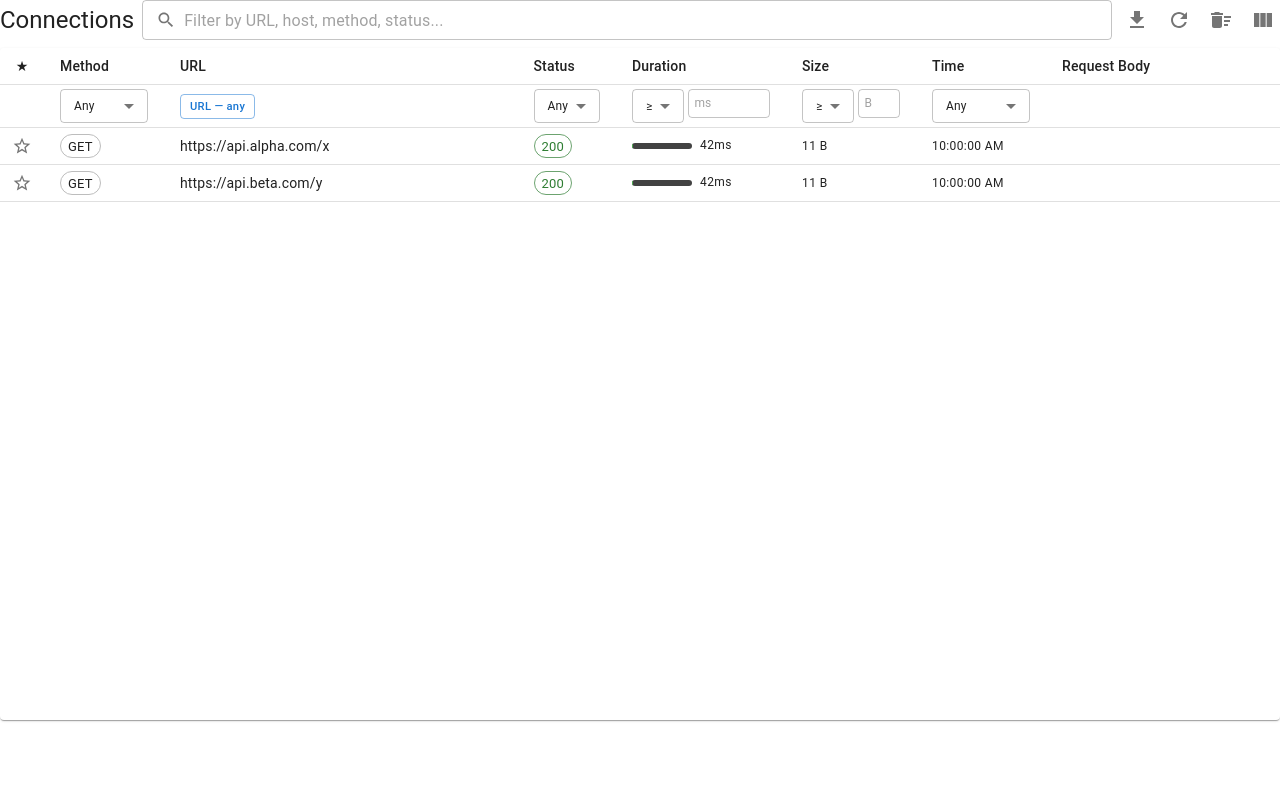
Test case: ConnectionsPage — column filters › filters rows by URL-contains via the multi-clause URL filter modal
Expected: the text "https://api.alpha.com/x" is shown, [164,128,518,165]
Expected: the text "https://api.beta.com/y" is shown, [164,165,518,202]
Click the button with test id "url-filter-button". click: (218, 106)
box: [180,94,255,119]
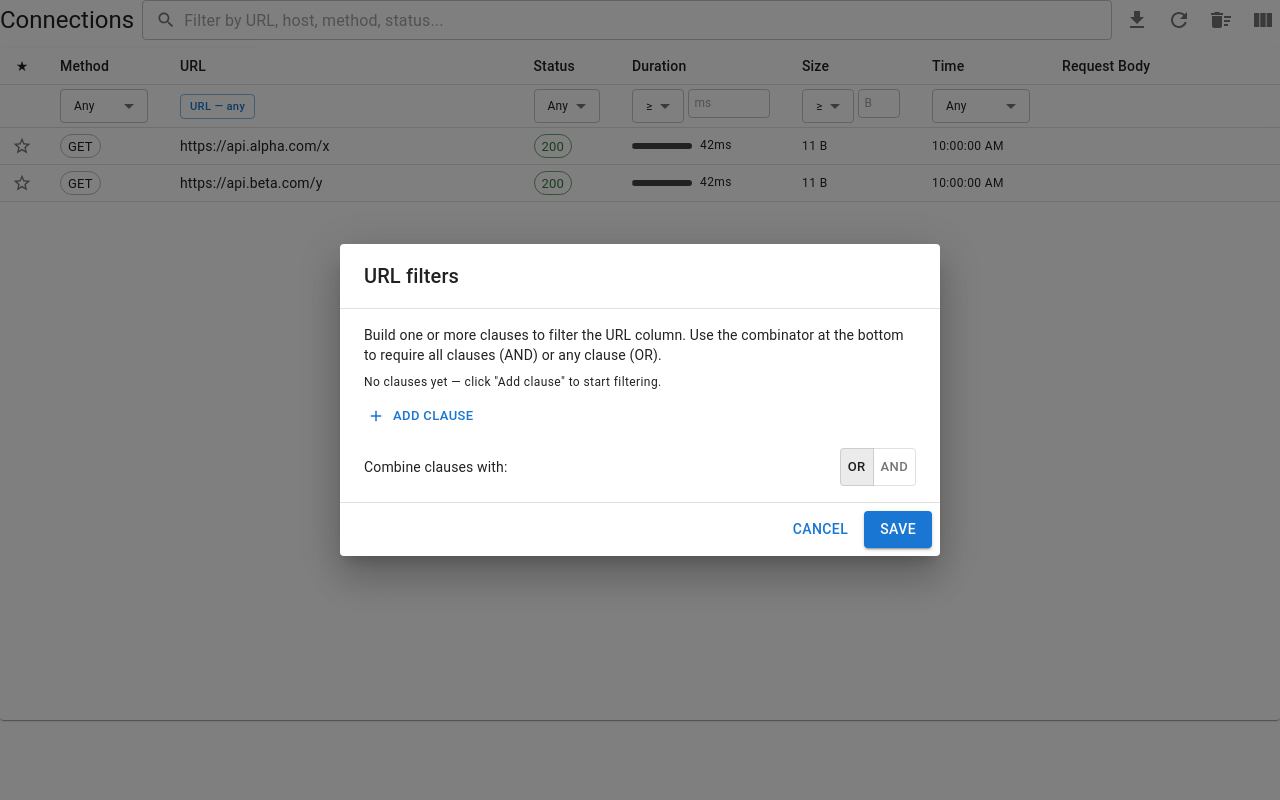
First clause row should already exist after Add.
Click the button with test id "url-filter-add-clause". click: (421, 416)
box: [364,401,478,432]
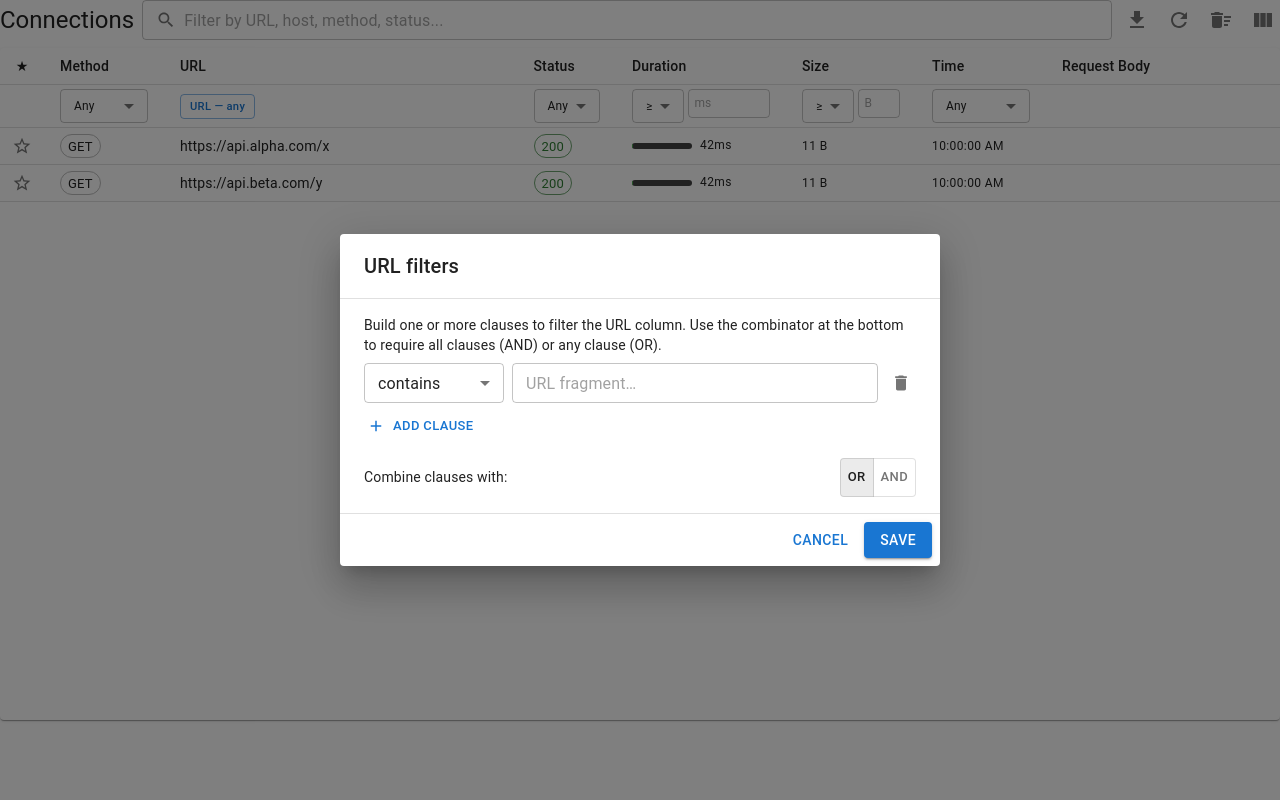
Type "beta" into the field with test id "url-filter-clause-value". click: (695, 383)
box: [512,363,878,403]
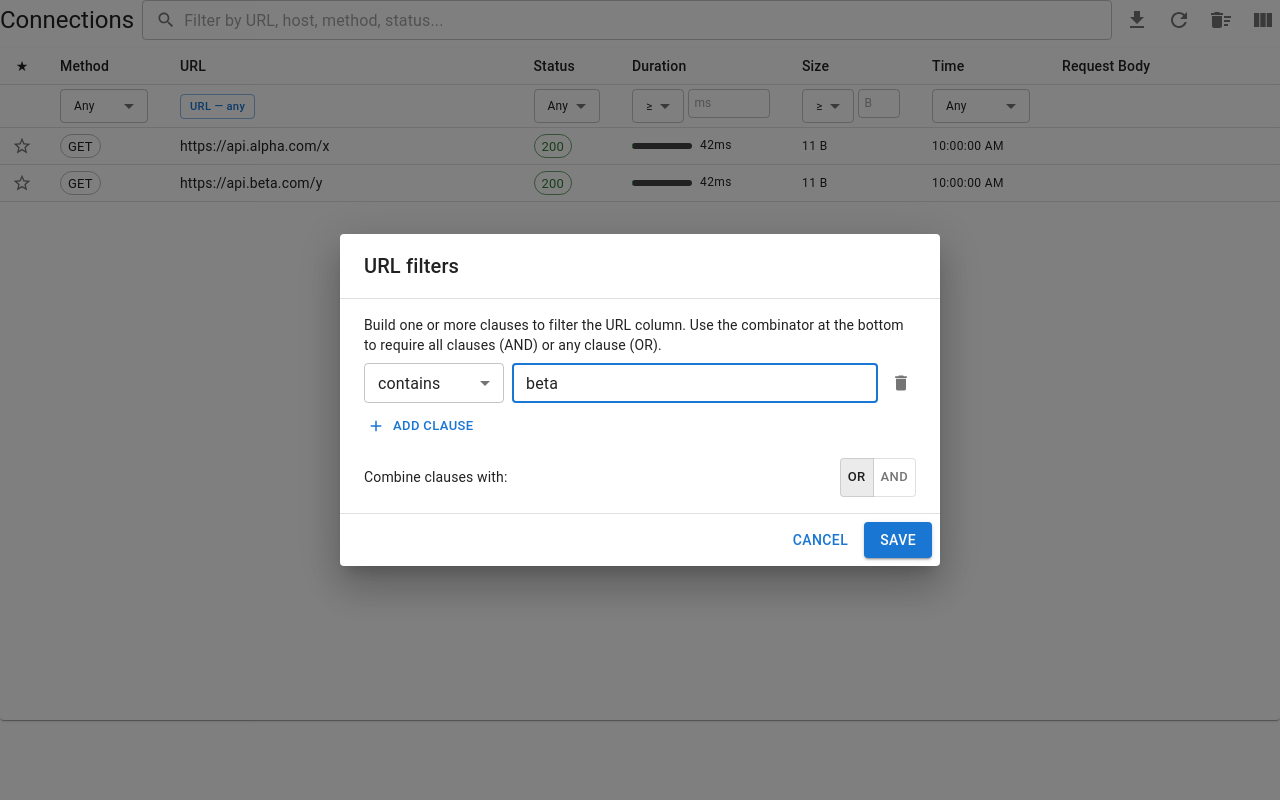
Click the button with test id "url-filter-save". click: (898, 540)
box: [864,522,932,558]
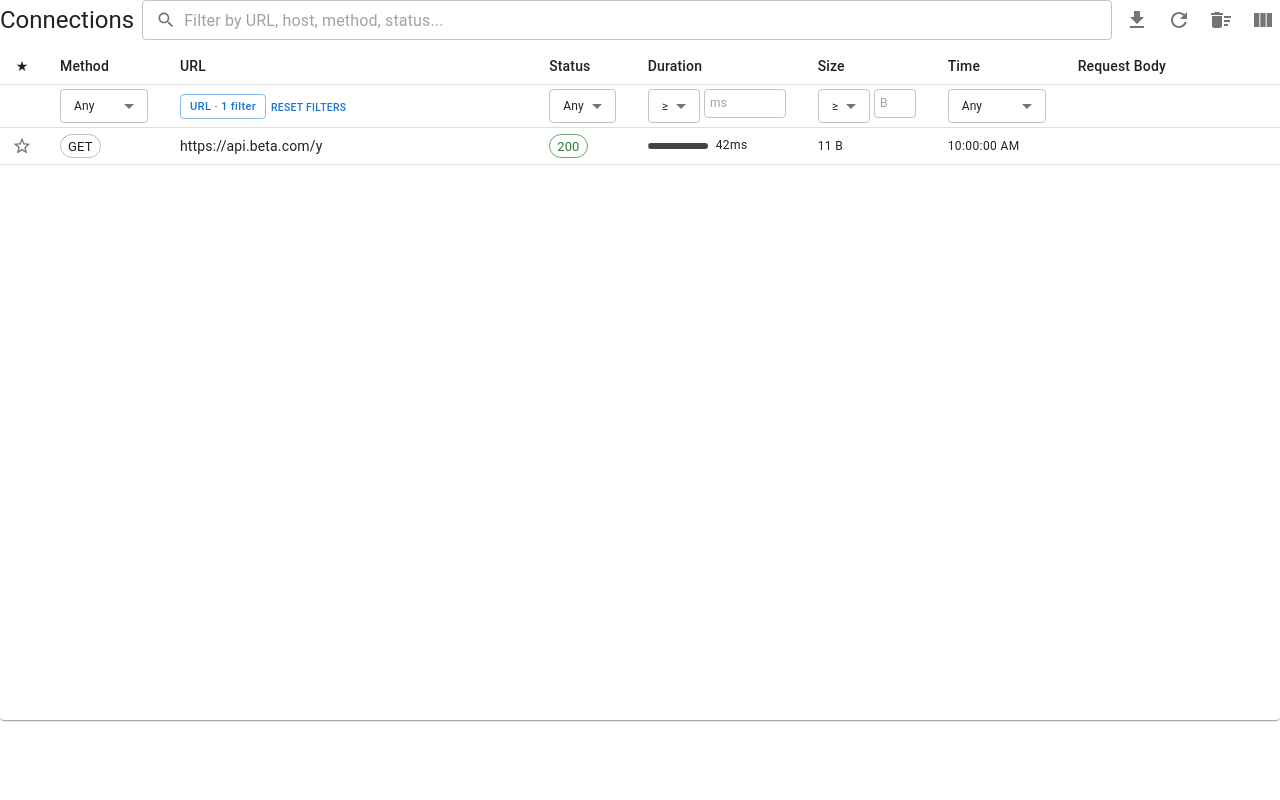
Expected: the text "https://api.beta.com/y" is shown, [164,128,533,165]
Result: the text "https://api.alpha.com/x" is gone
Result: the button with test id "url-filter-button" shows "1 filter" at [180,94,266,119]
